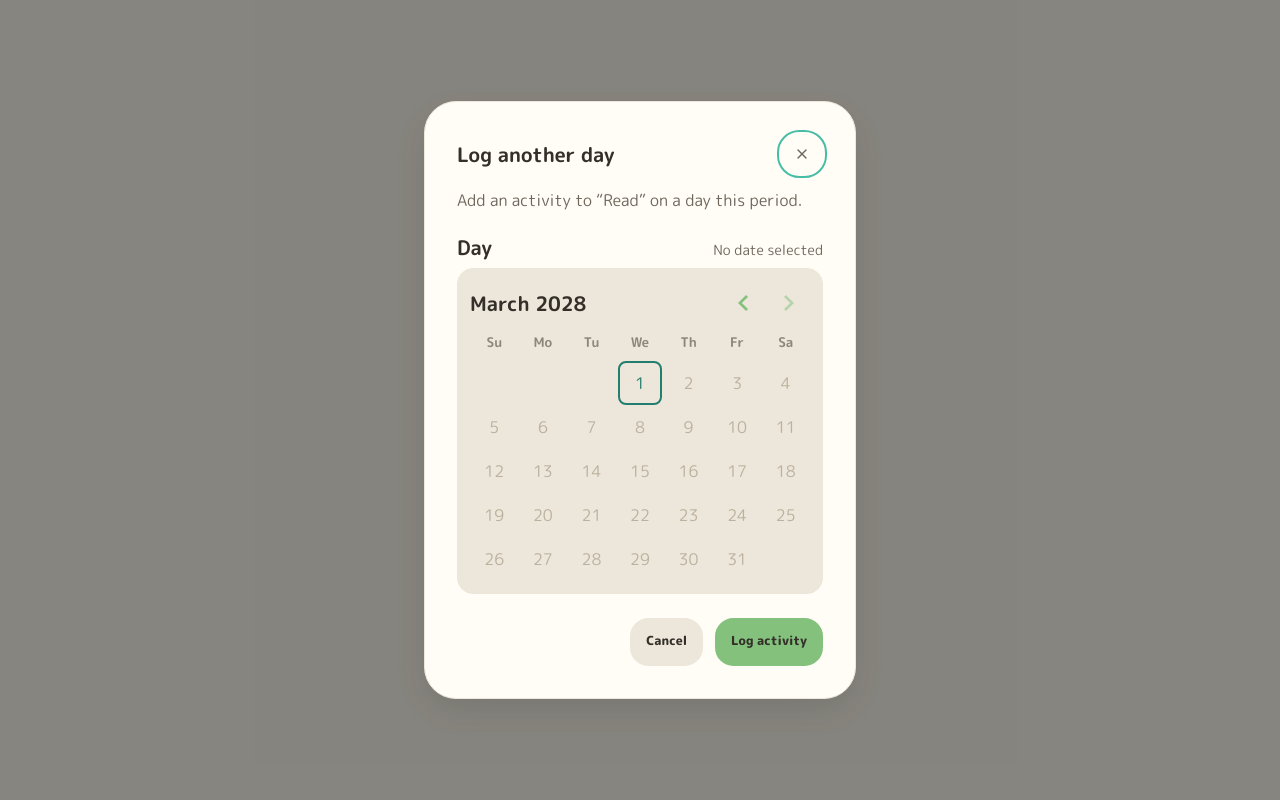
Test case: opens to the supplied latest month, limits dates, and navigates across years and leap day
The image size is (1280, 800).
Check: the text "March 2028" is shown, box x1=470 y1=281 x2=586 y2=325
Click the button named "previous month". click: (744, 303)
box: x1=722 y1=281 x2=766 y2=325
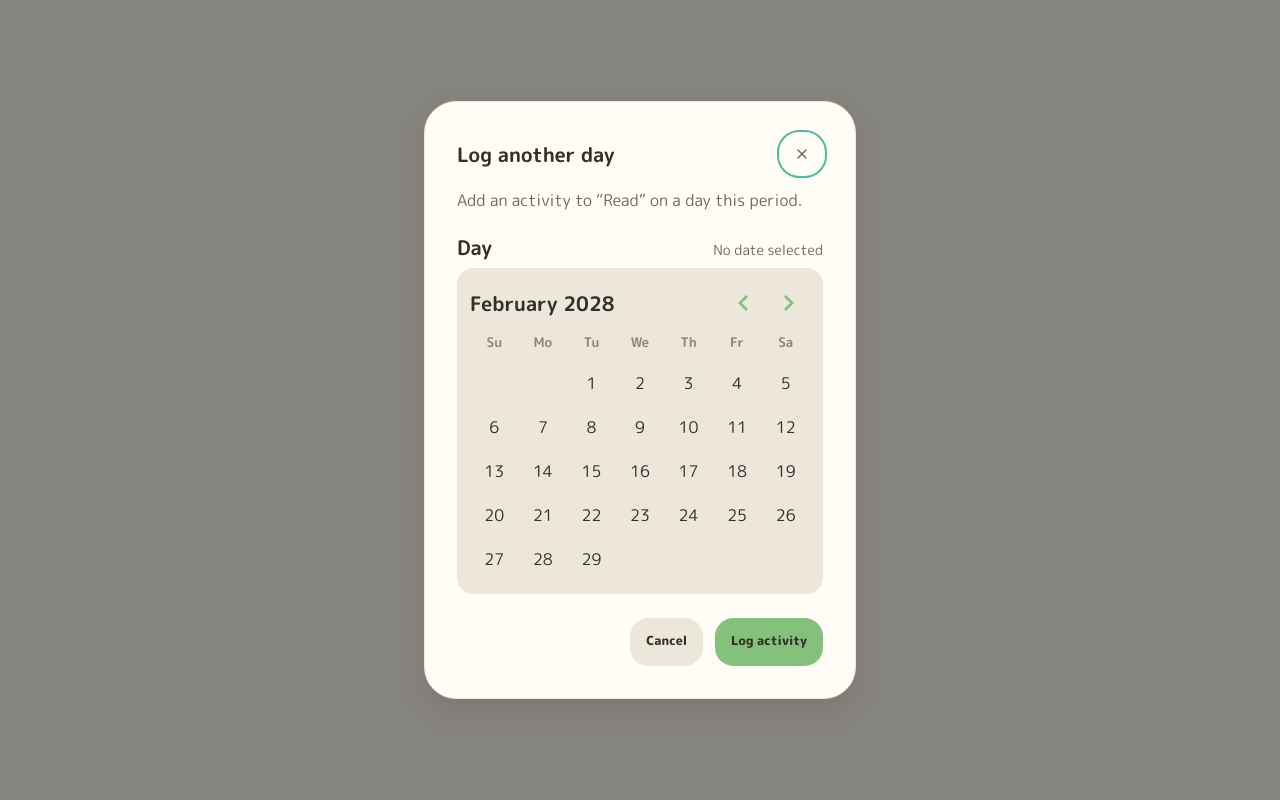
Check: the text "February 2028" is shown, box x1=470 y1=281 x2=614 y2=325
Click the button named "previous month". click: (744, 303)
box: x1=722 y1=281 x2=766 y2=325
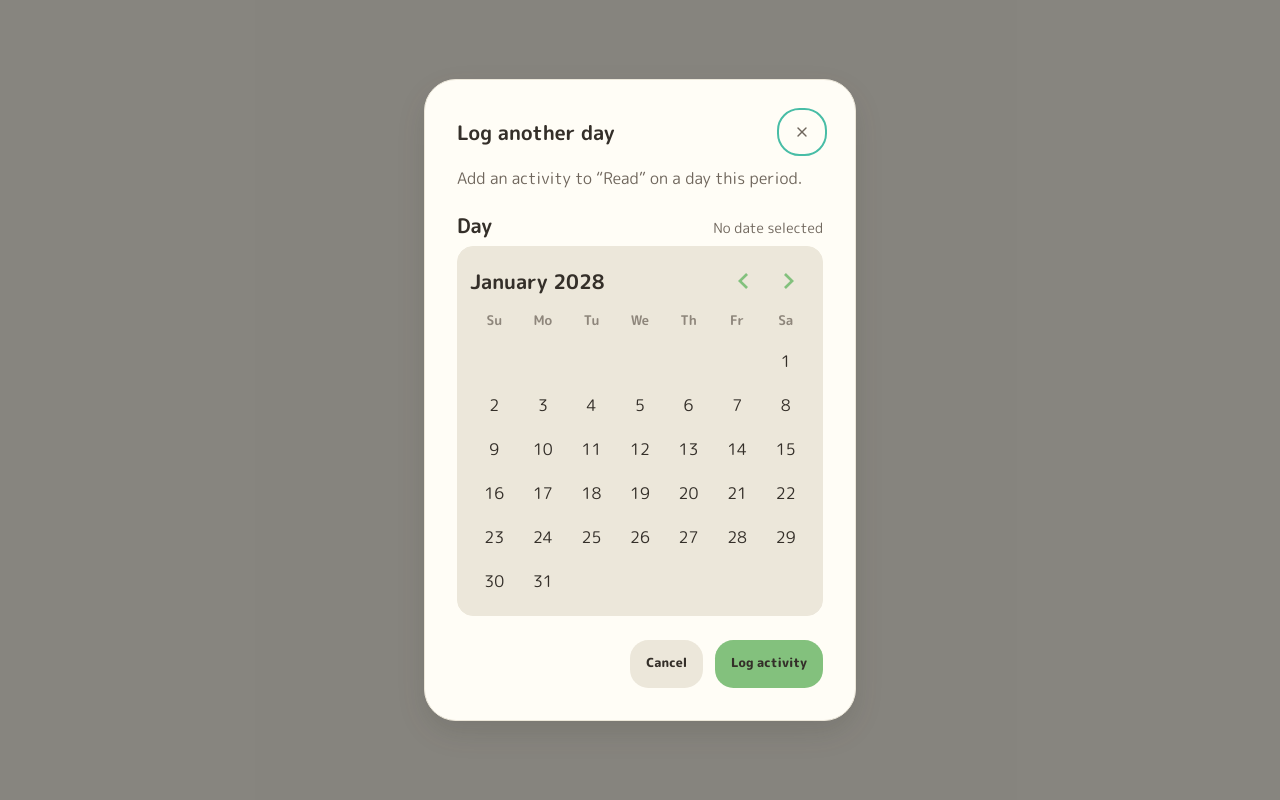
Click the button named "previous month". click: (744, 281)
box: x1=722 y1=259 x2=766 y2=303
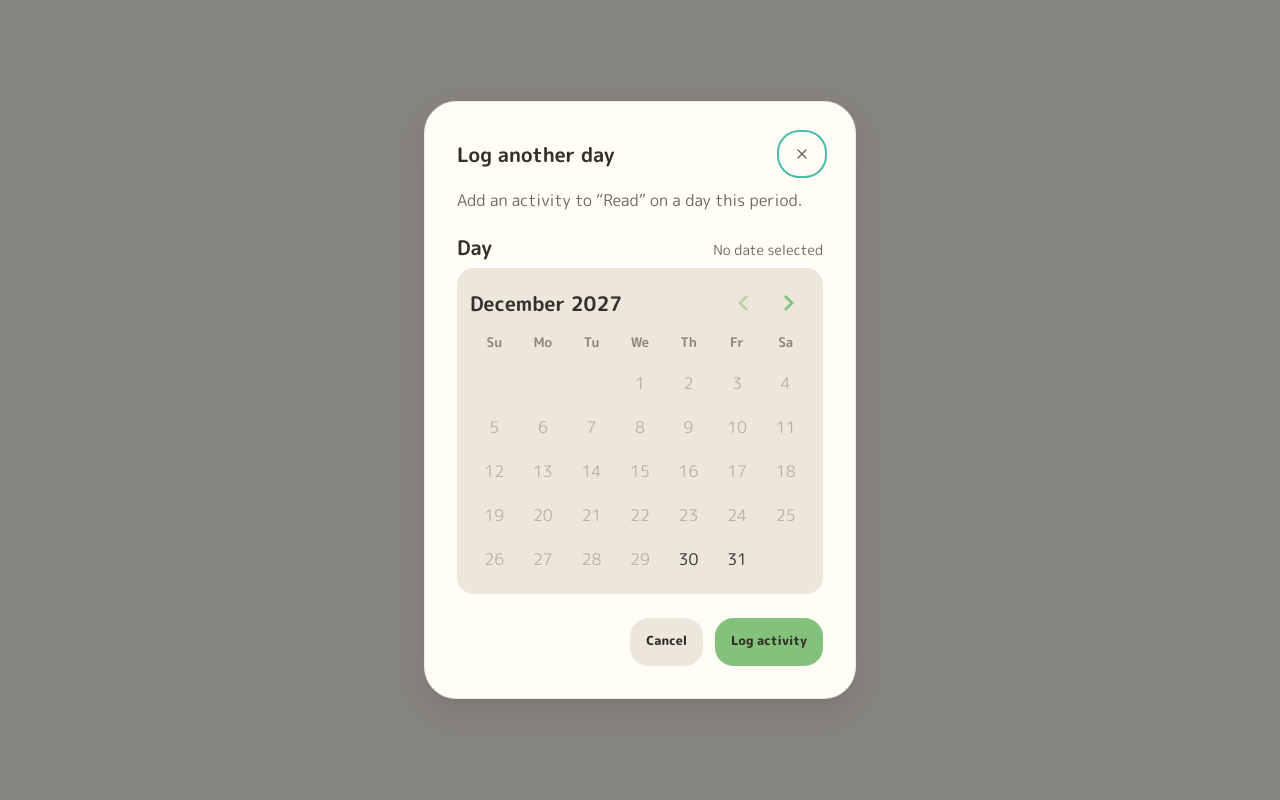
Check: the text "December 2027" is shown, box x1=470 y1=281 x2=622 y2=325
